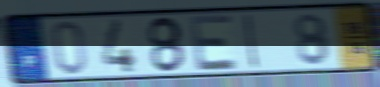0: (49, 20, 89, 77)
4: (100, 17, 138, 75)
8: (146, 15, 187, 74), (292, 12, 331, 67)
E: (187, 13, 241, 73)
I: (242, 12, 261, 71)
